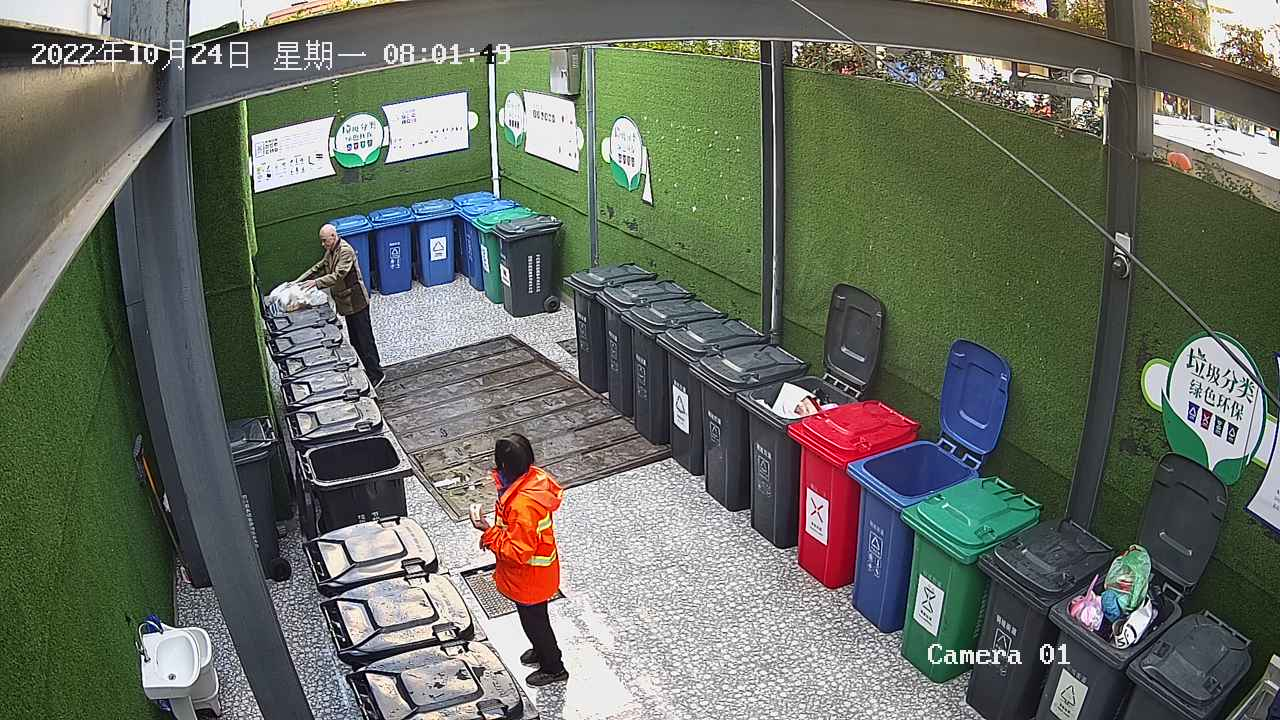person: (287, 219, 390, 395)
worker: (463, 430, 575, 690)
